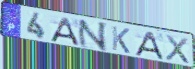4: (26, 12, 47, 41)
A: (49, 17, 81, 47), (133, 31, 165, 61)
K: (110, 25, 131, 55)
N: (76, 19, 109, 53)
X: (164, 33, 191, 65)
